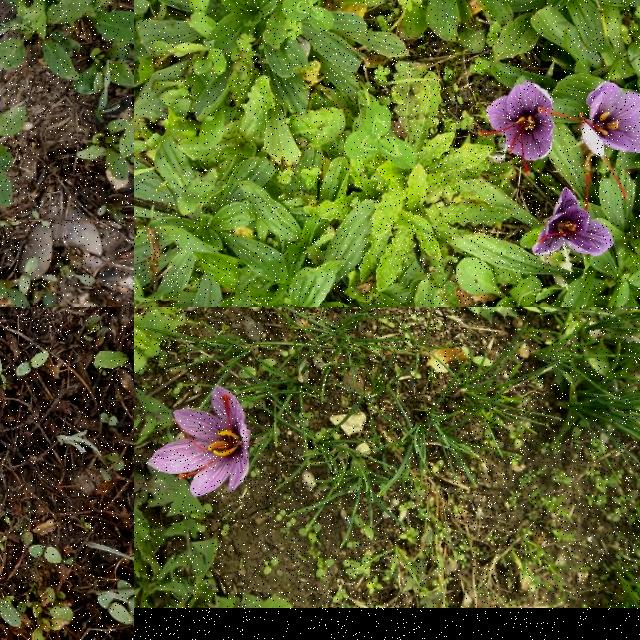flower: (537, 81, 640, 198), (147, 385, 251, 497), (477, 82, 557, 178), (534, 172, 614, 256)
